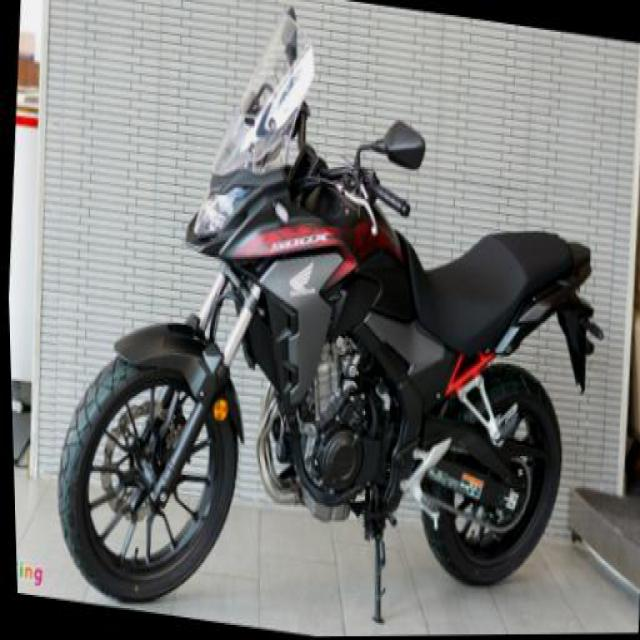CB500X: (31, 0, 621, 638)
